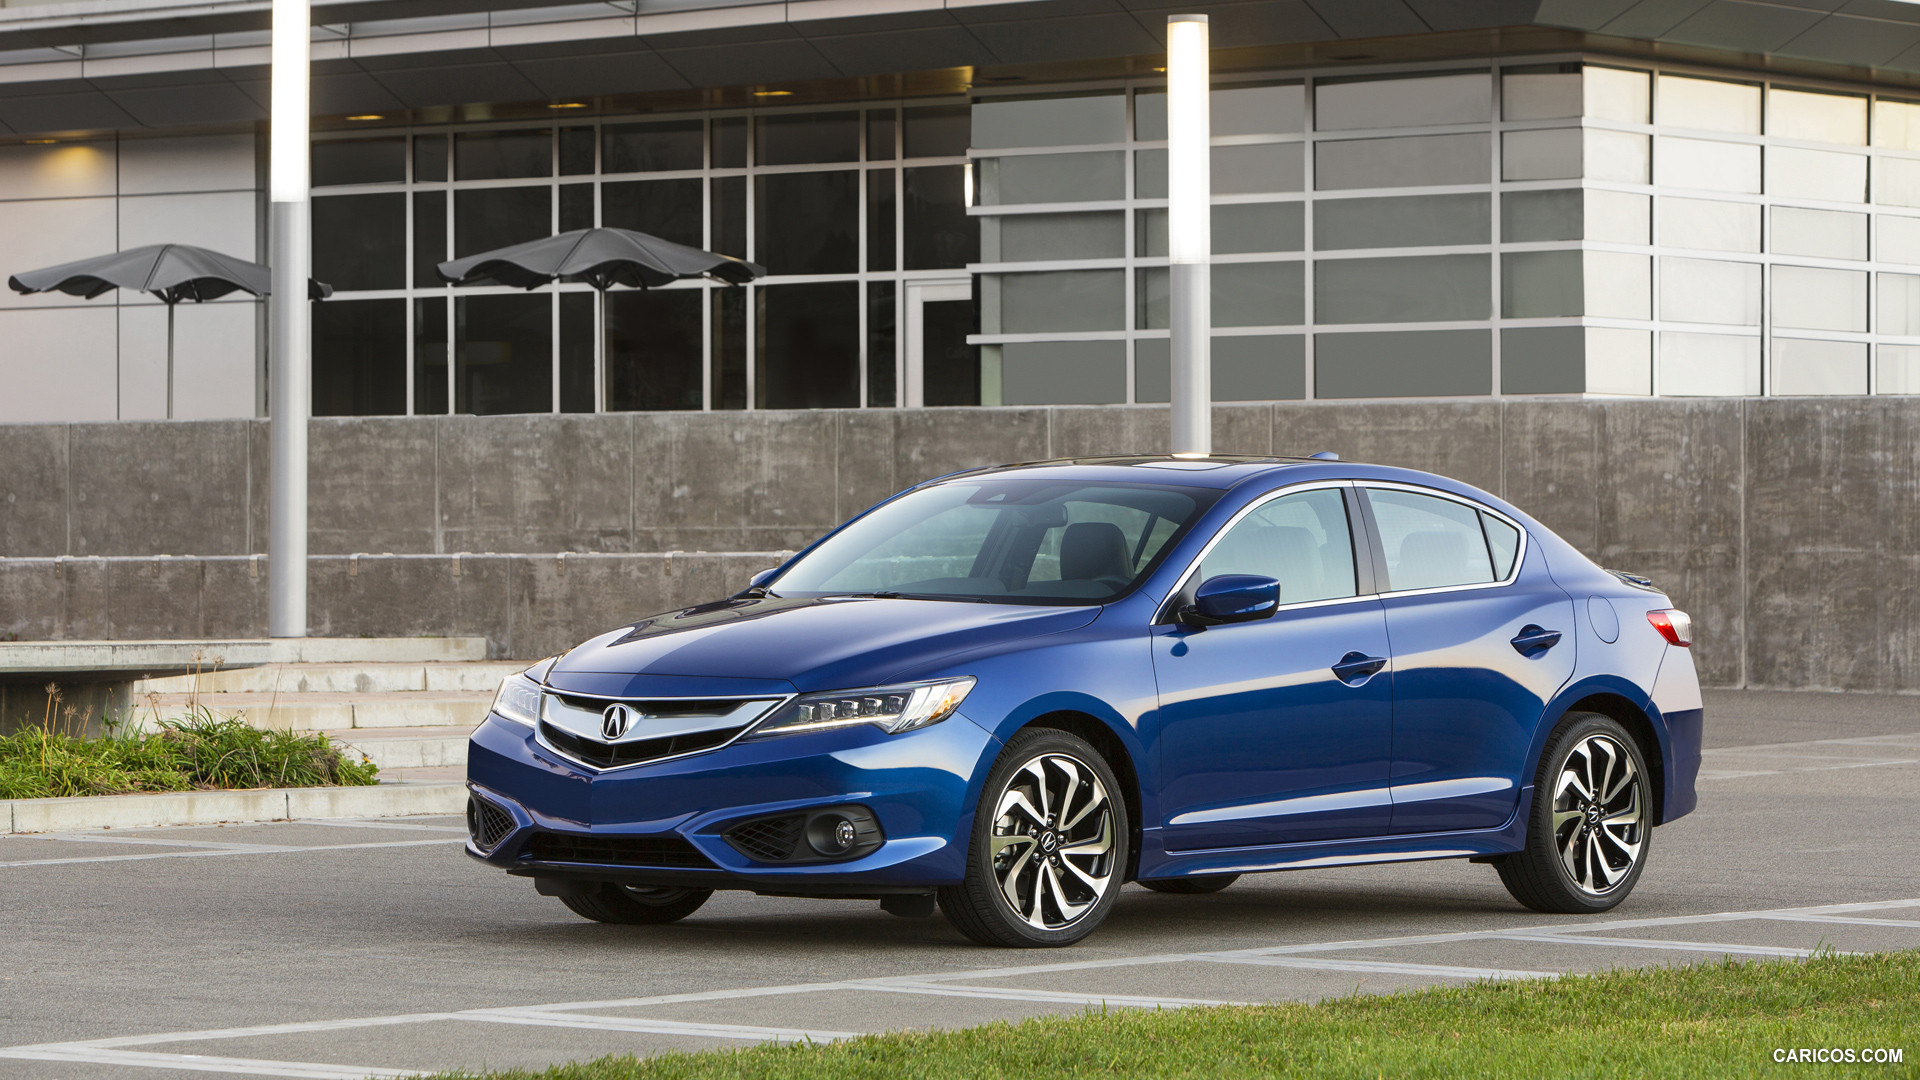Fog Lamp & Scope: (719, 802, 887, 864)
Front: (464, 611, 1077, 873)
Front Bumper: (460, 773, 965, 874)
Grill: (535, 695, 766, 767)
Headlight: (742, 675, 978, 741)
